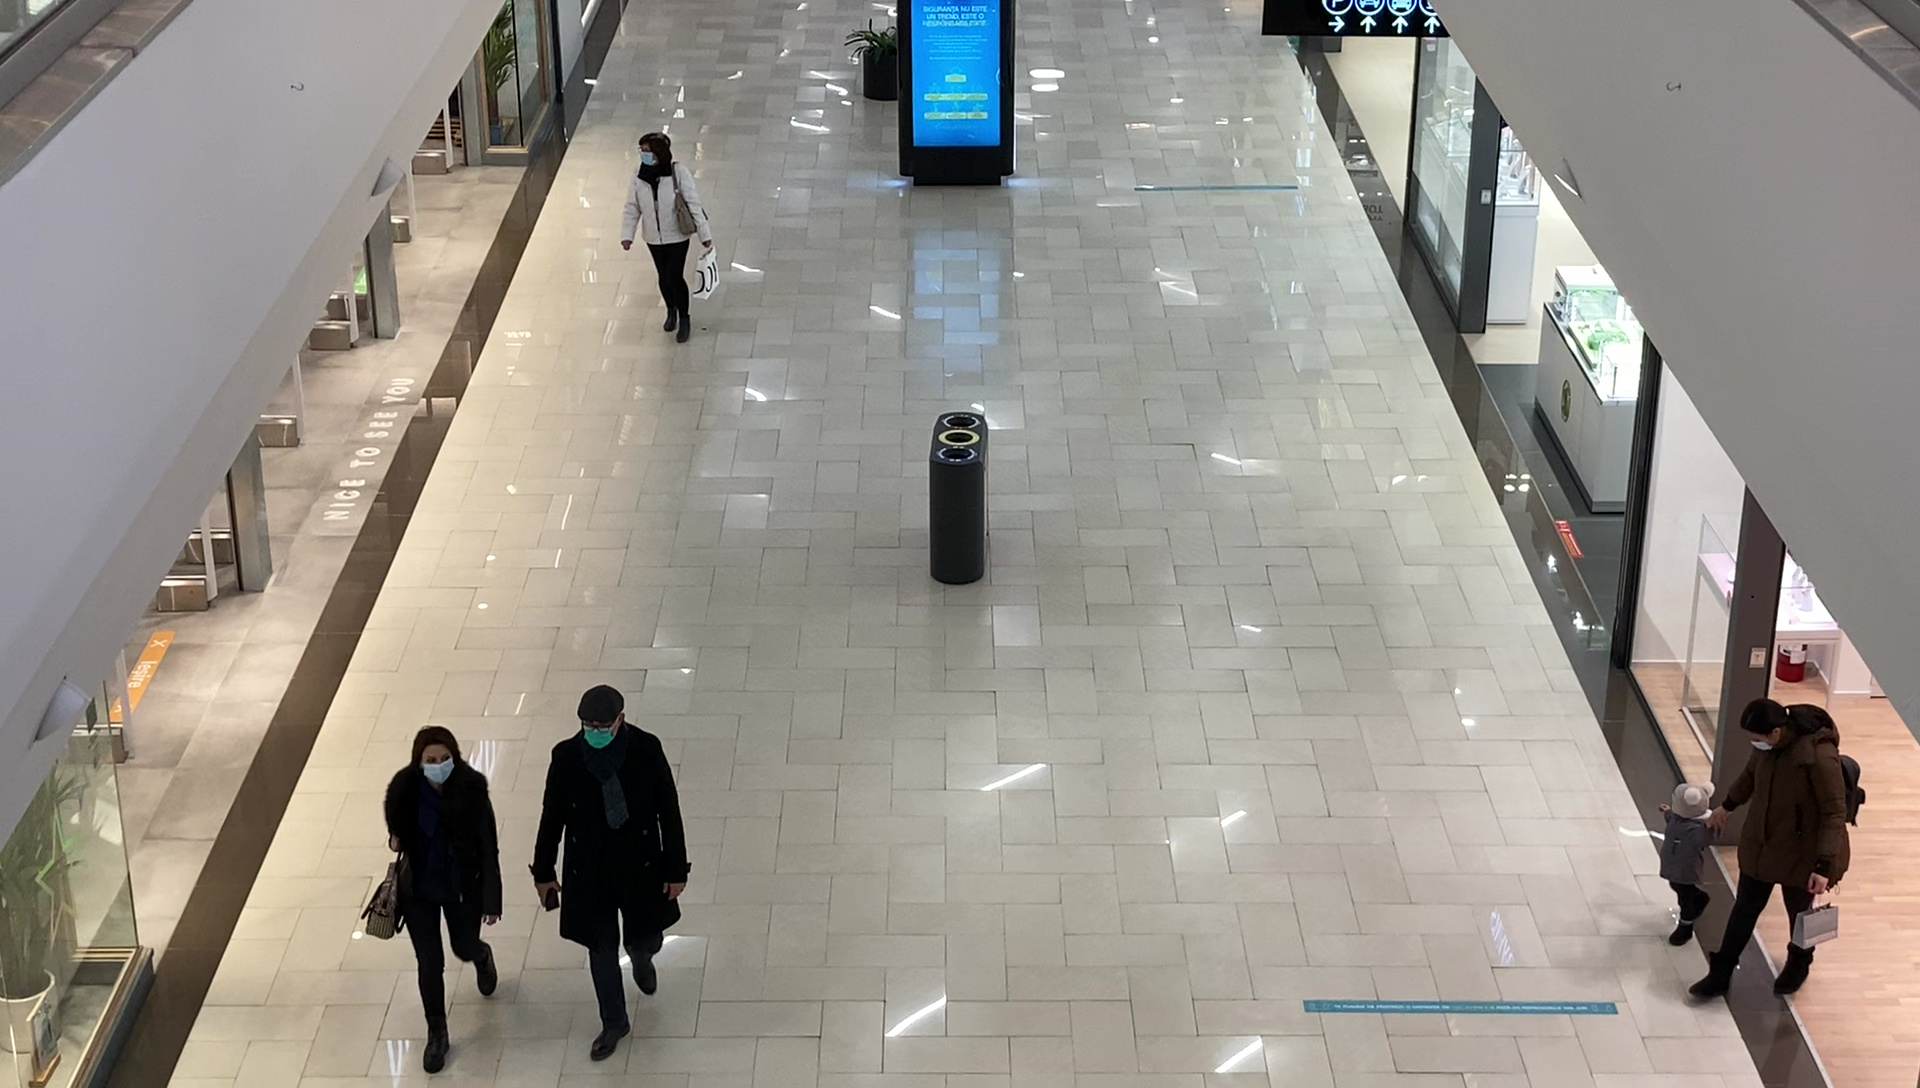person: (529, 684, 694, 1064), (382, 727, 502, 1073), (1717, 700, 1852, 996), (619, 134, 715, 340), (1653, 784, 1716, 947)
